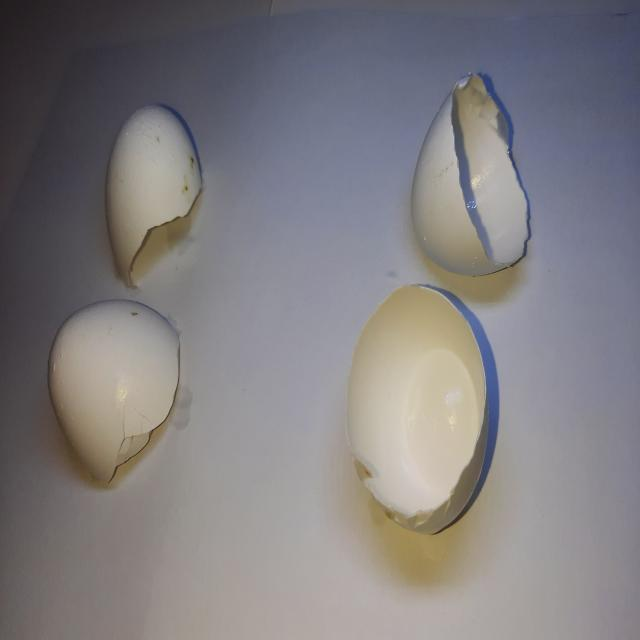egg shell: (342, 278, 492, 542), (42, 296, 186, 489), (406, 65, 532, 281), (101, 99, 208, 294)
